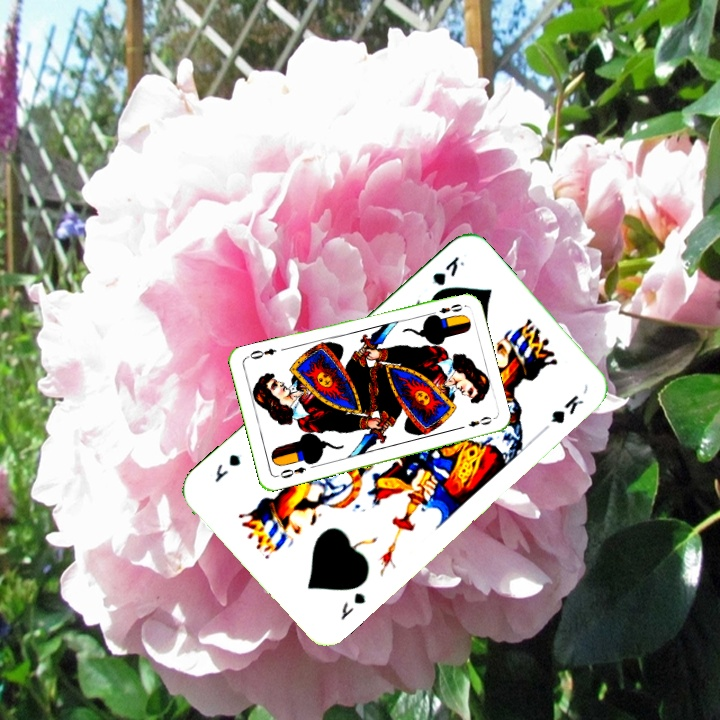EO: (426, 300, 465, 319), (273, 463, 308, 481)
GK: (428, 252, 467, 289), (336, 588, 369, 623)
